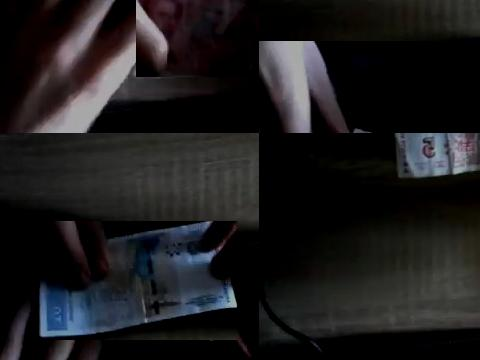20leva: (38, 221, 238, 340)
5leva: (139, 0, 248, 77)
